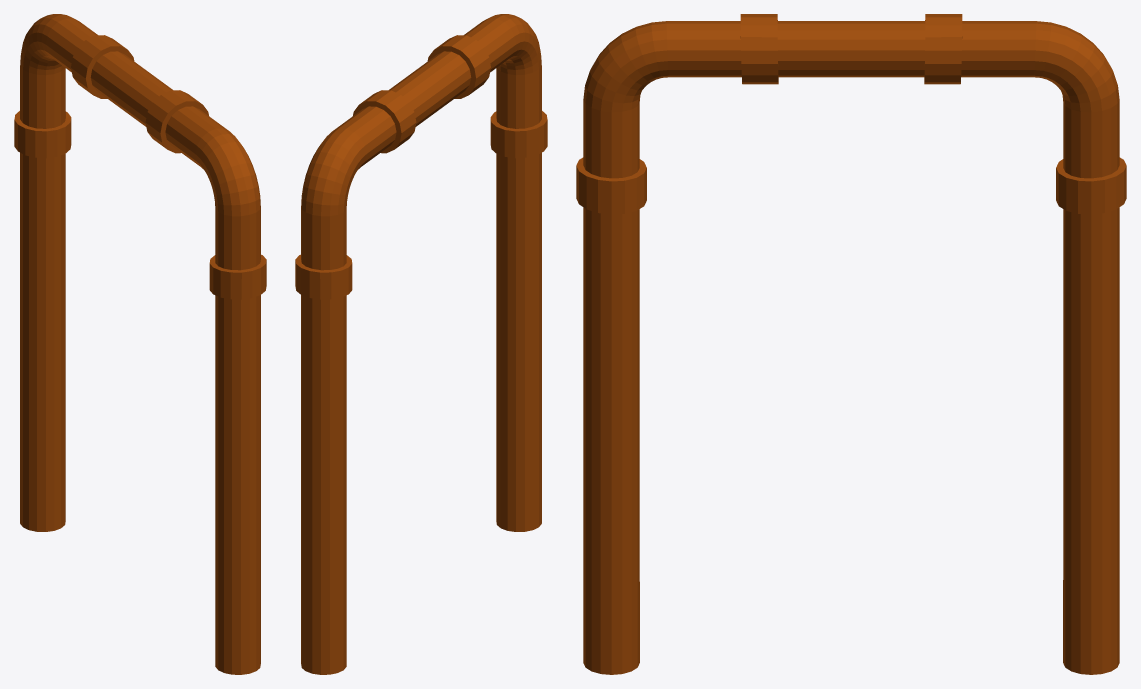
File: Pipe9.fbx
3 renders of one model, left to right at view 1: azimuth 30°, elevation 25°; view 2: azimuth 150°, elevation 25°; view 3: azimuth 270°, elevation 25°, orthographic. The views are drawn at different scales.
Visible parts, largest first — view 1: Plane; view 2: Plane; view 3: Plane.
Part boxes in pixels (x1,y1,x2,y2): Plane: [14, 14, 266, 674]; Plane: [295, 14, 547, 674]; Plane: [576, 14, 1126, 674].
Bounding box in the file's own units: 125 × 1262 × 975.
